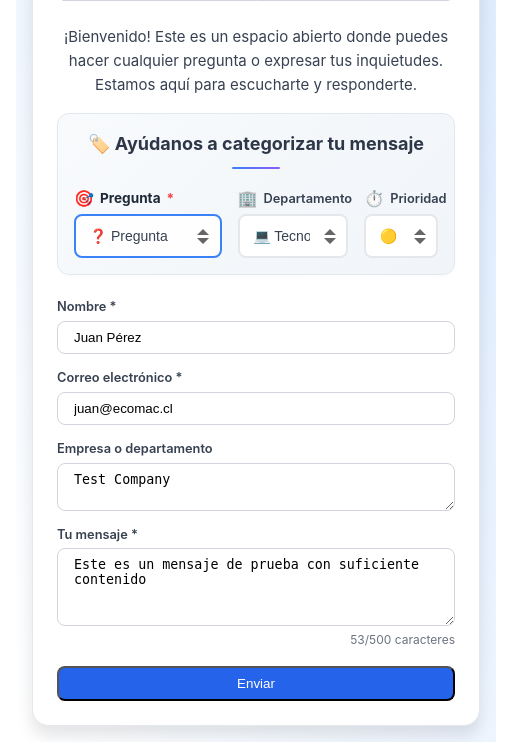
Test: InicioPlataformaWhy › Envío de formulario › debe manejar errores de validación del servidor
The width and height of the screenshot is (513, 742).
(page scrolled)
Click the button with class "boton-enviar" at {"x": 256, "y": 683}, box [57, 666, 455, 700]
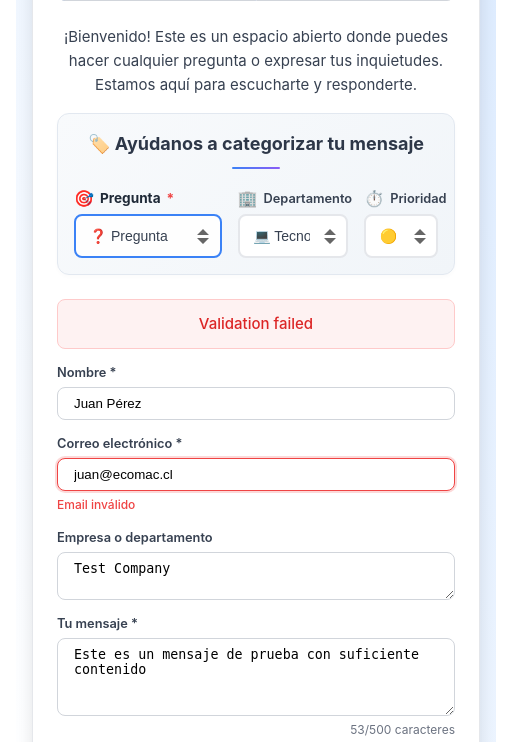
Check: the text "Validation failed" is shown, box [57, 299, 455, 349]
Check: the text "Email inválido" is shown, box [57, 497, 135, 512]
